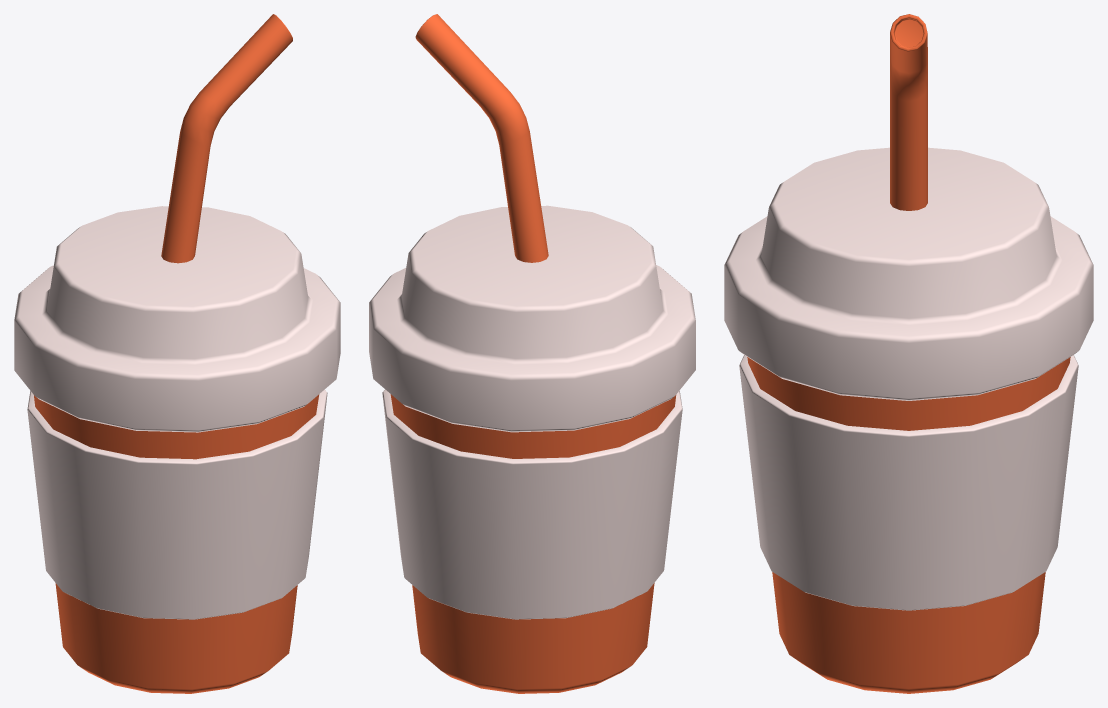
The model's file is Store_2_Drink_1.glb.
3 renders of one model, left to right at view 1: azimuth 30°, elevation 25°; view 2: azimuth 150°, elevation 25°; view 3: azimuth 270°, elevation 25°, orthographic. The views are drawn at different scales.
Parts seen in each view (by area): view 1: Store_2_Drink_1; view 2: Store_2_Drink_1; view 3: Store_2_Drink_1.
Part boxes in pixels (x1,y1,x2,y2): Store_2_Drink_1: (14,14,340,693); Store_2_Drink_1: (369,14,695,693); Store_2_Drink_1: (724,14,1093,693).
Bounding box in the file's own units: 1.69 × 3.46 × 1.69.
Materials: 1 (1 with a texture image).
